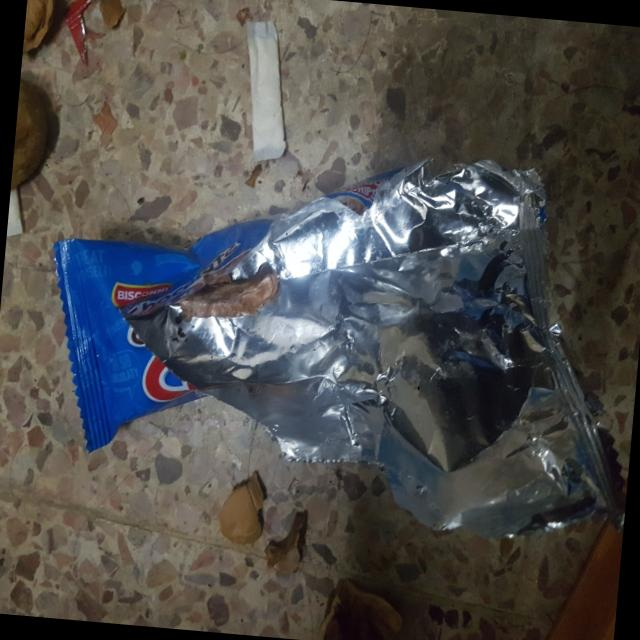electronic: (29, 115, 640, 548)
